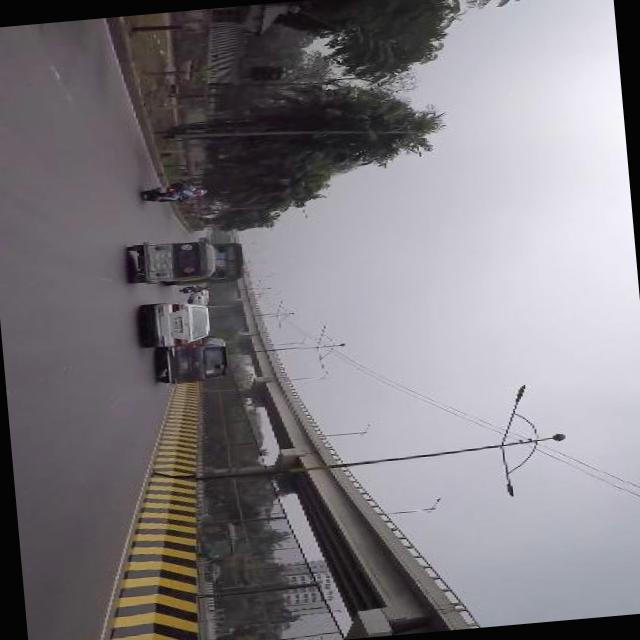bus: (164, 240, 250, 287)
car: (142, 296, 212, 348), (204, 562, 222, 583), (190, 292, 212, 306)
motorcycle: (132, 238, 211, 284), (196, 520, 237, 558), (152, 180, 208, 203), (180, 282, 210, 292)
truck: (160, 335, 232, 384)
